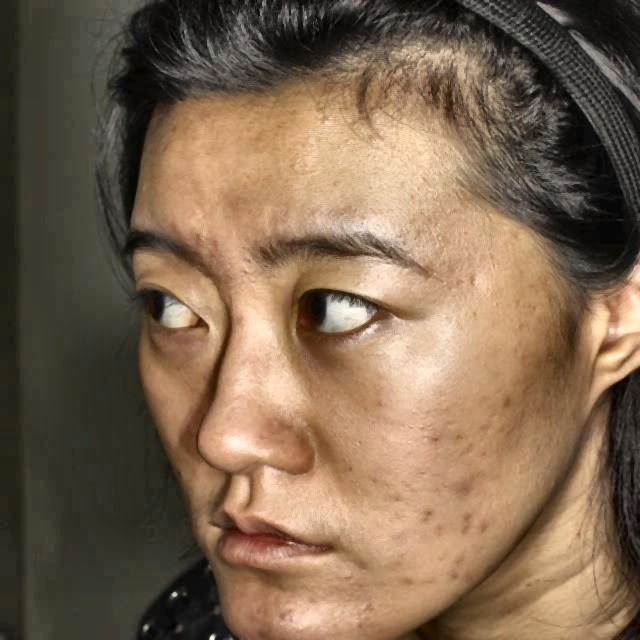pustule: (197, 225, 226, 262), (452, 471, 490, 499), (154, 124, 186, 156), (456, 509, 486, 533), (454, 557, 476, 586), (417, 503, 432, 528)
